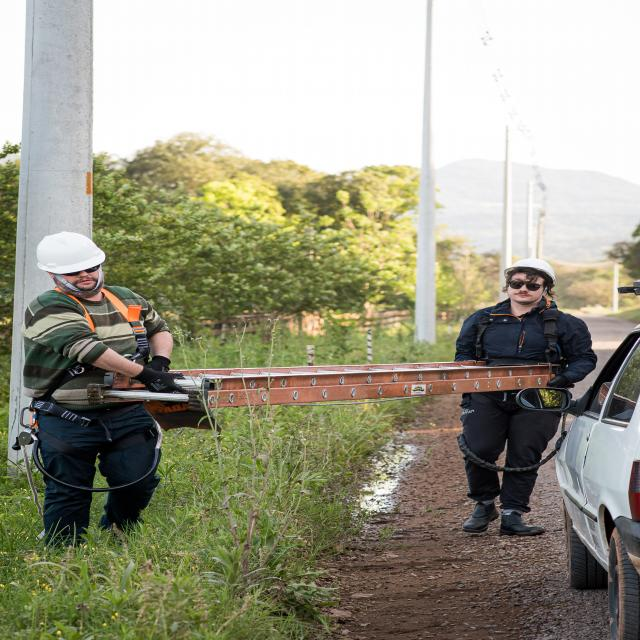botas: (460, 497, 504, 534), (497, 511, 549, 539)
capacete: (34, 230, 111, 277), (501, 256, 559, 286)
corda de vida: (8, 283, 159, 461), (453, 302, 576, 428)
luva: (131, 364, 189, 395)
